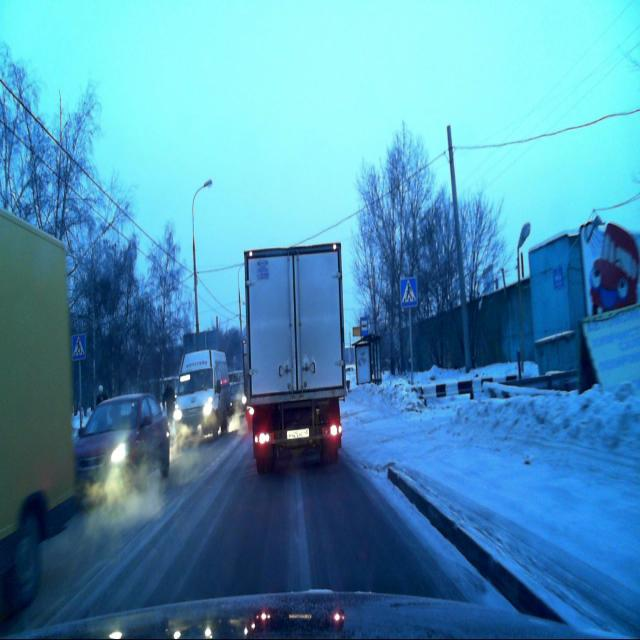object: (408, 315, 414, 388)
road sign: (400, 276, 418, 309), (71, 331, 88, 362), (359, 316, 369, 338)
